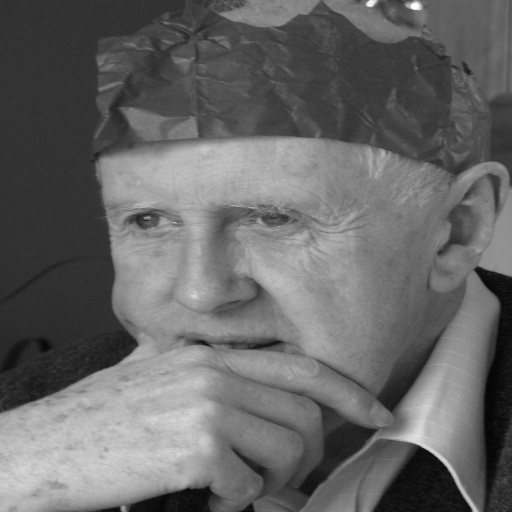hand: (35, 311, 401, 512)
